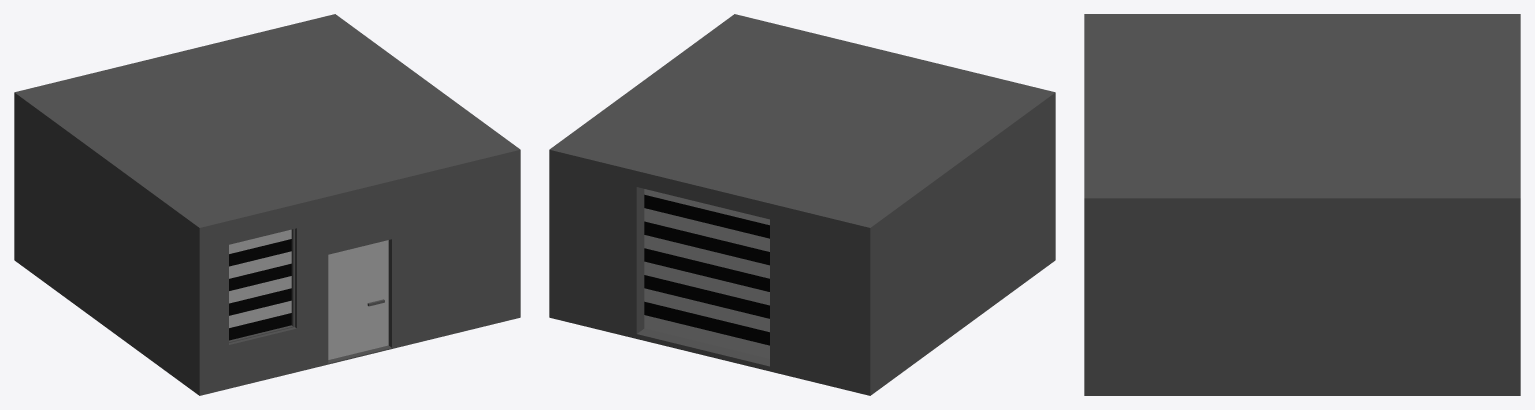
Rendered from immeuble5bas.fbx.
3 views of the same model, side by side, from view 1: azimuth 30°, elevation 25°; view 2: azimuth 150°, elevation 25°; view 3: azimuth 270°, elevation 25° (orthographic). The views are drawn at different scales.
Parts seen in each view (by area): view 1: Cube.227; view 2: Cube.227; view 3: Cube.227.
Part boxes in pixels (x1,y1,x2,y2): Cube.227: (14, 14, 520, 395); Cube.227: (549, 14, 1055, 395); Cube.227: (1084, 14, 1520, 395).
Size of the model in its own units: 2000 by 1000 by 2000.
